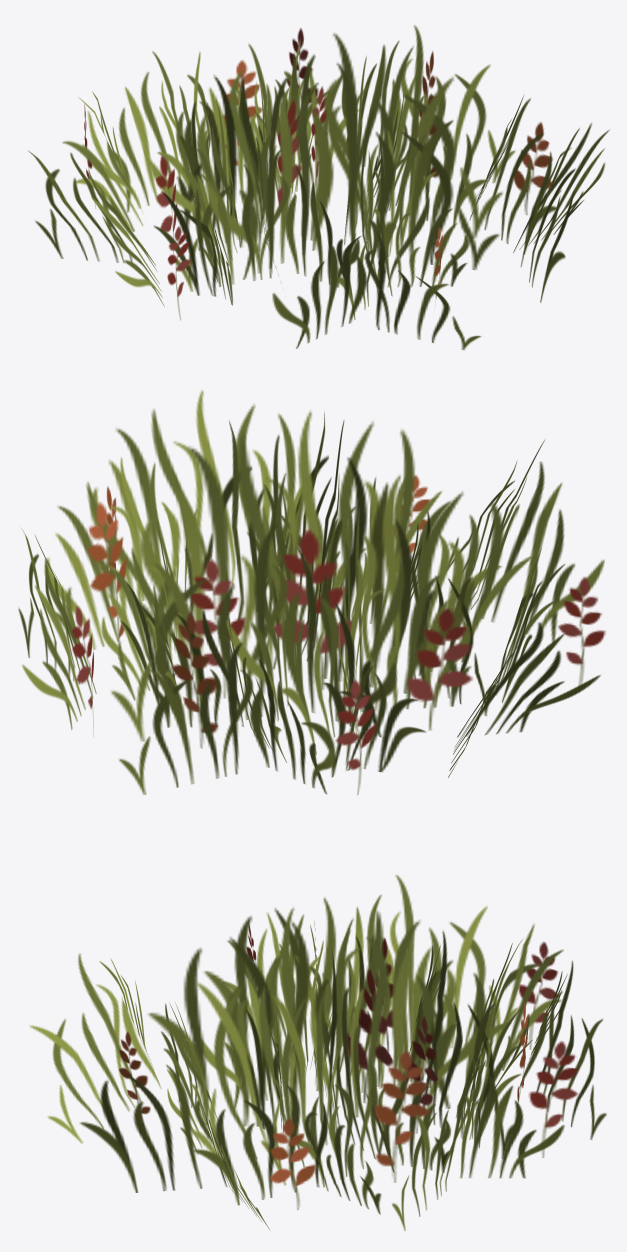
Rendered from Forest_Grass_6.glb.
The picture shows the model from 3 angles, top to bottom: view 1: azimuth 30°, elevation 25°; view 2: azimuth 150°, elevation 25°; view 3: azimuth 270°, elevation 25°; orthographic projection. The views are drawn at different scales.
Visible parts, largest first — view 1: Forest_Grass_6; view 2: Forest_Grass_6; view 3: Forest_Grass_6.
Boxes of the visible parts, x1=… form: Forest_Grass_6: x1=28, y1=25, x2=609, y2=349; Forest_Grass_6: x1=18, y1=390, x2=605, y2=794; Forest_Grass_6: x1=30, y1=875, x2=606, y2=1230.
Size of the model in its own units: 1.16 by 0.5684 by 1.24.
1 material, 1 textured.
